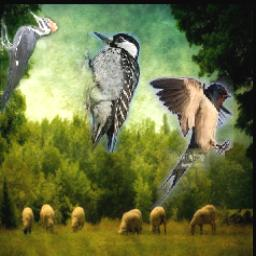Swallow: (139, 76, 233, 210)
Woodpecker: (72, 31, 140, 153), (1, 11, 59, 114)
